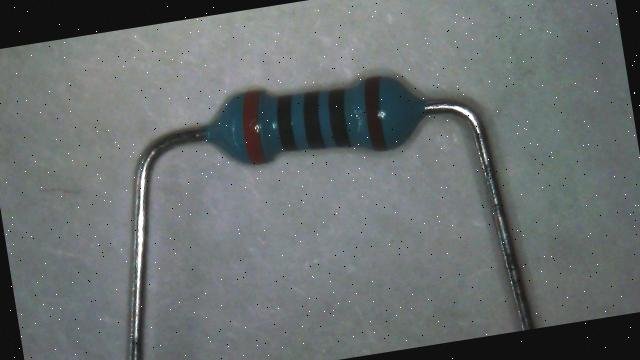black: (326, 88, 354, 147), (300, 90, 328, 148), (274, 94, 300, 152)
brown: (362, 76, 392, 151)
orange: (238, 89, 272, 164)
resistor: (190, 55, 437, 189)
